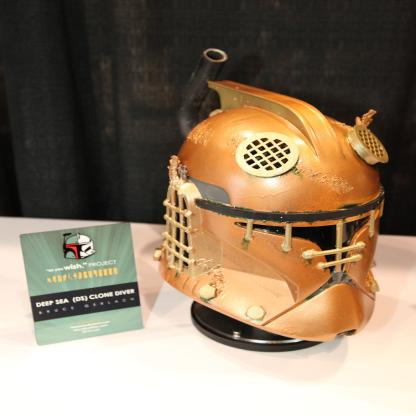Helmet: (156, 105, 393, 344)
